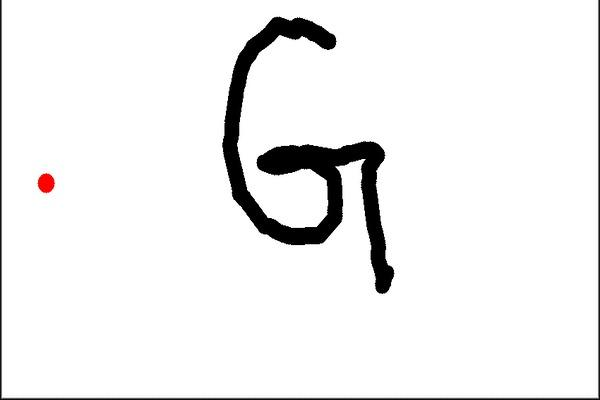G: (215, 13, 403, 301)
